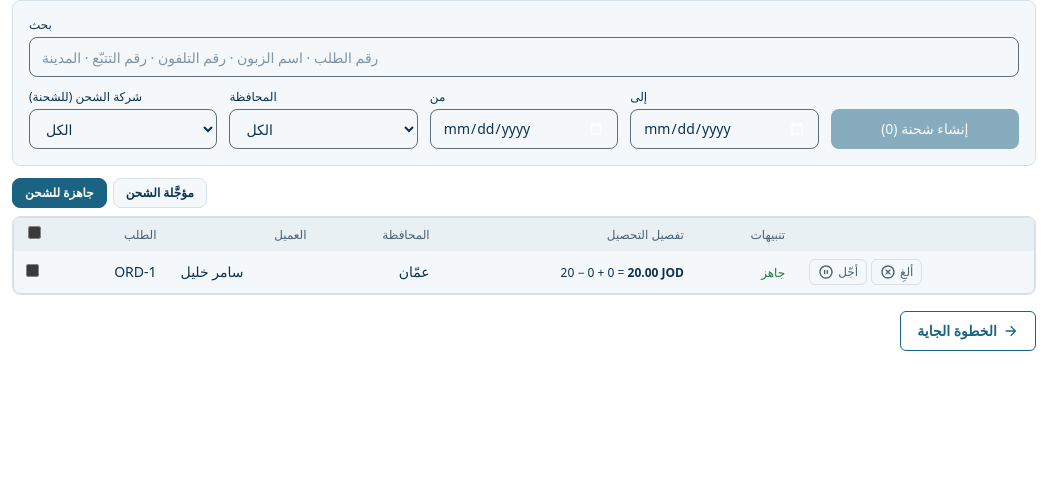
Scenario: the banner › a blocked pop-up is said, not celebrated
Expected: the text "سامر خليل" is shown, [180, 262, 244, 281]
Select "شركة الشحن أ" in the dropdown labelled "شركة الشحن (للشحنة)" at [123, 129], box [29, 109, 217, 149]
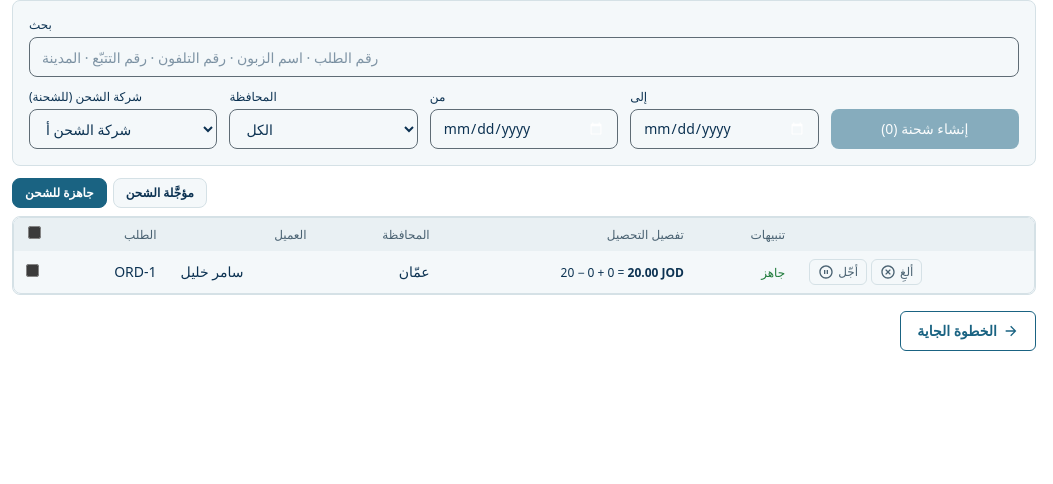
Click the checkbox named "اختر الكل" at [34, 232], box [28, 226, 40, 239]
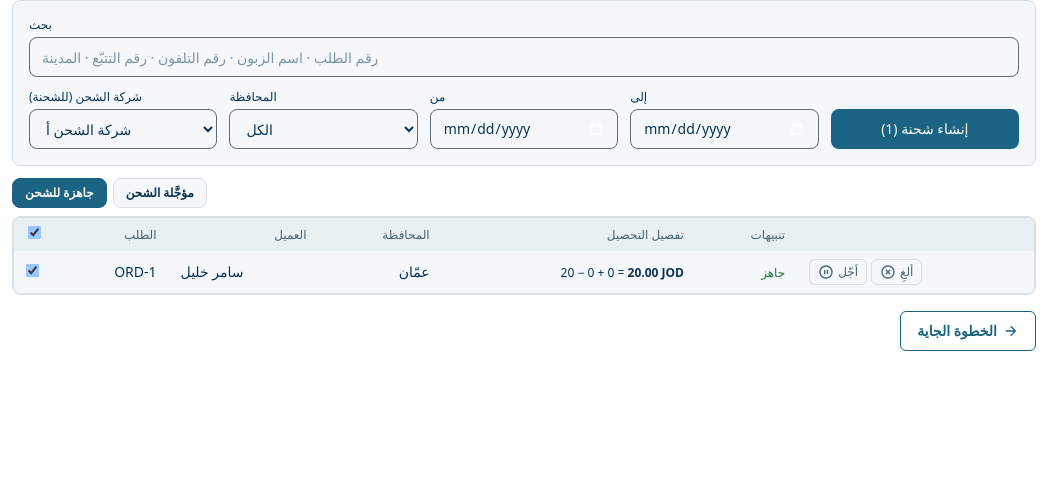
Click the button "إنشاء شحنة (1)" at [925, 129], box [831, 109, 1019, 149]
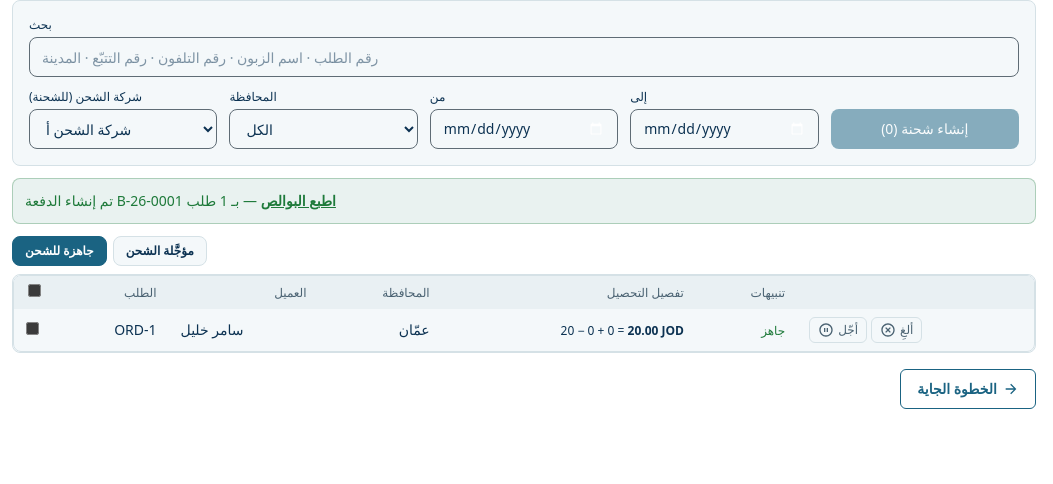
Expected: the text "تم إنشاء الدفعة B-26-0001 بـ 1 طلب — اطبع البوالص" is shown, [12, 178, 1036, 224]
Click the button "اطبع البوالص" at [298, 201], box [261, 191, 336, 211]
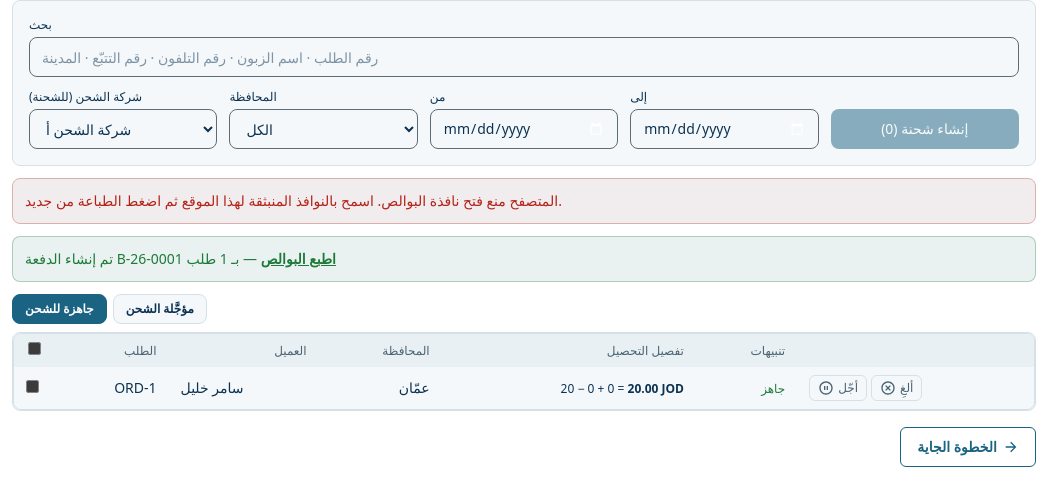
Expected: the text "المتصفح منع فتح نافذة البوالص. اسمح بالنوافذ المنبثقة لهذا الموقع ثم اضغط الطباعة من جديد." is shown, [25, 191, 562, 210]
